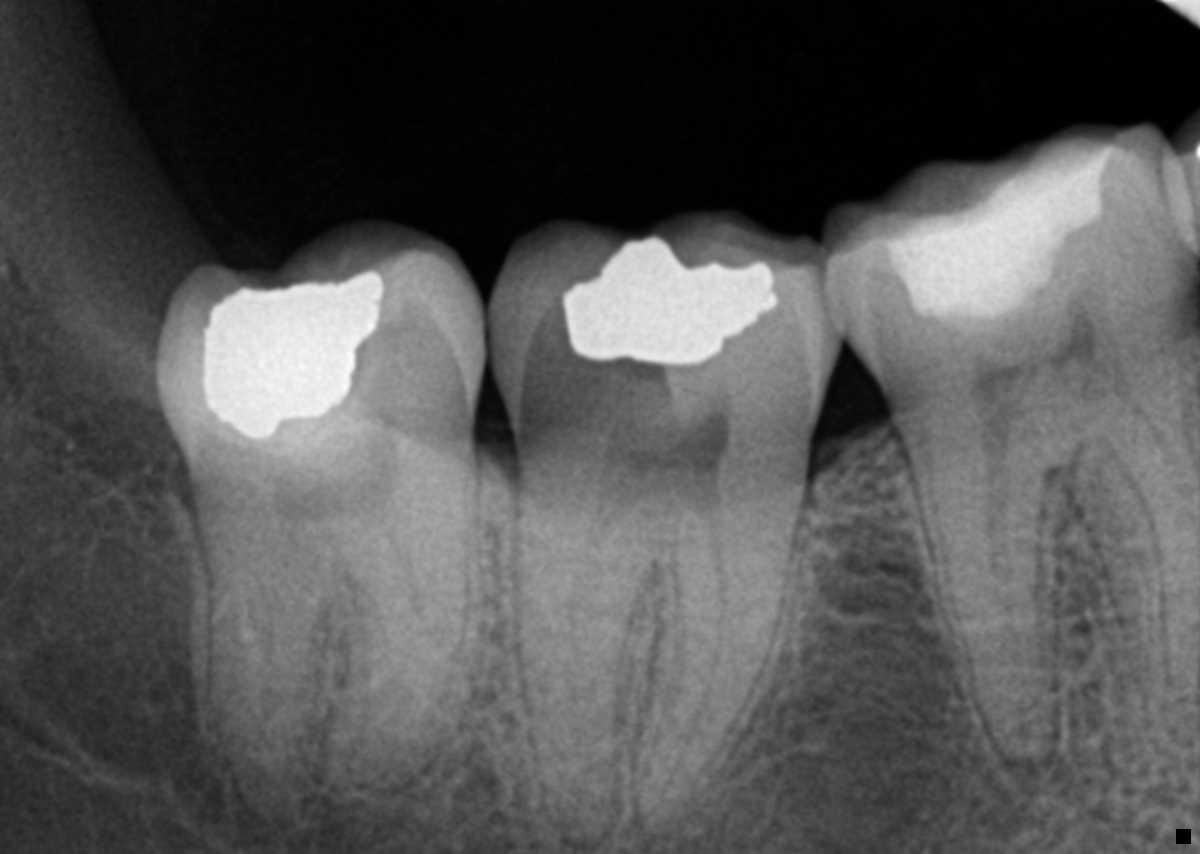Distal Canal: (978, 468, 1035, 772)
Distal Root: (886, 424, 1060, 778), (509, 516, 645, 854), (213, 548, 334, 824)
Mesial Canal: (663, 526, 726, 800), (1140, 417, 1194, 516)
Mesial Root: (632, 488, 806, 842), (332, 493, 477, 803), (1068, 407, 1200, 733)
decay: (512, 301, 670, 490)
